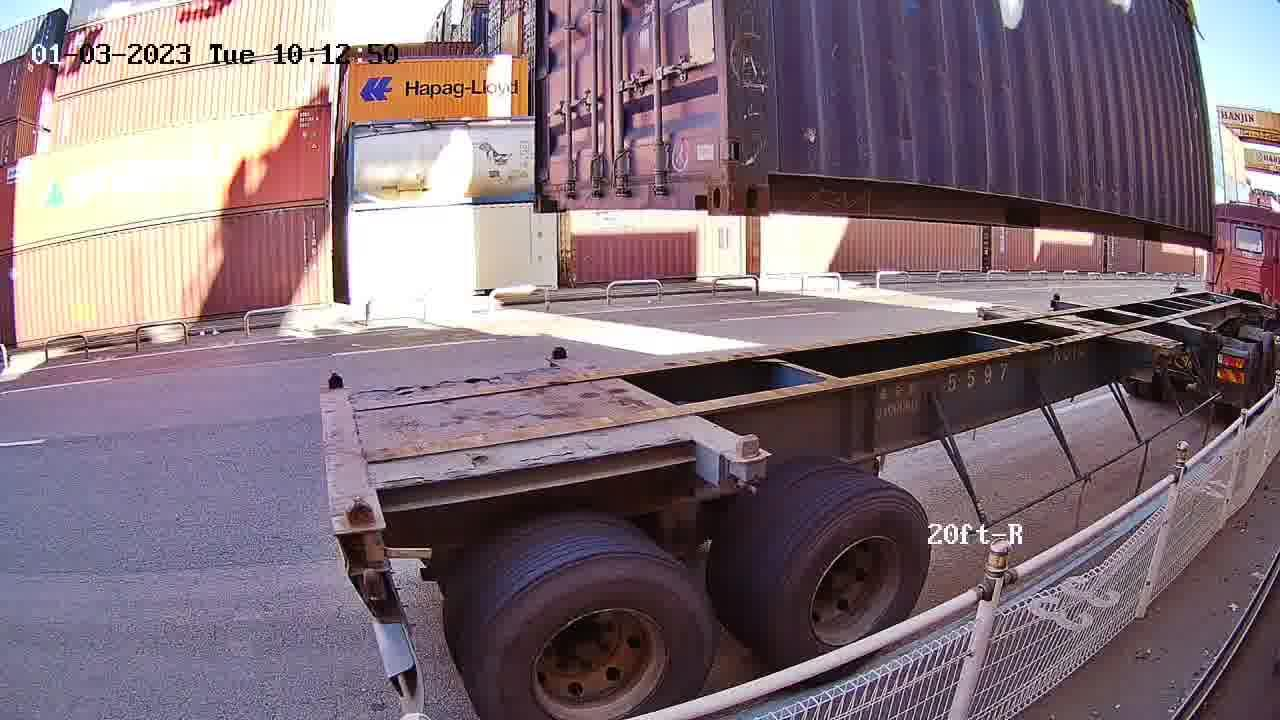Chassis: (547, 356, 776, 464)
Cone: (729, 432, 768, 497), (544, 341, 570, 364)
Hole_L: (731, 137, 813, 215), (531, 161, 575, 213)
Hole_R: (674, 140, 731, 217)
Tire: (472, 553, 716, 719), (778, 486, 931, 680)
